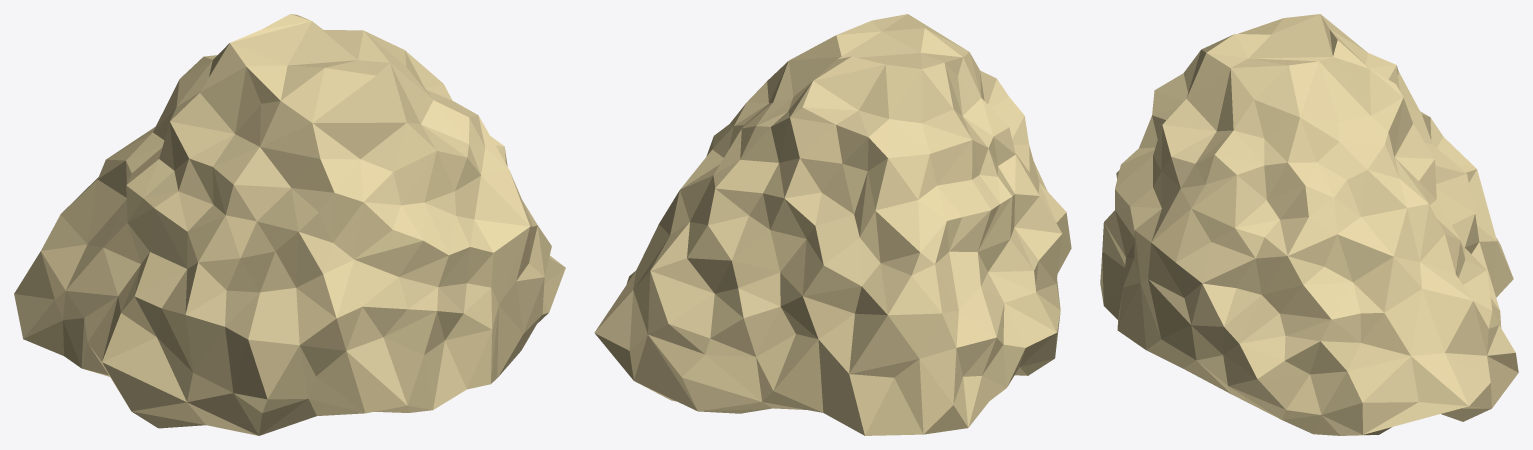
Rendered from Asteroid (6).fbx.
The picture shows the model from 3 angles, left to right: view 1: azimuth 30°, elevation 25°; view 2: azimuth 150°, elevation 25°; view 3: azimuth 270°, elevation 25°; orthographic projection. The views are drawn at different scales.
Visible parts, largest first — view 1: Asteroid183; view 2: Asteroid183; view 3: Asteroid183.
Boxes of the visible parts, <box> form: Asteroid183: <box>14,14,565,435</box>; Asteroid183: <box>594,14,1071,435</box>; Asteroid183: <box>1100,14,1518,435</box>.
Size of the model in its own units: 471 by 369 by 430.
